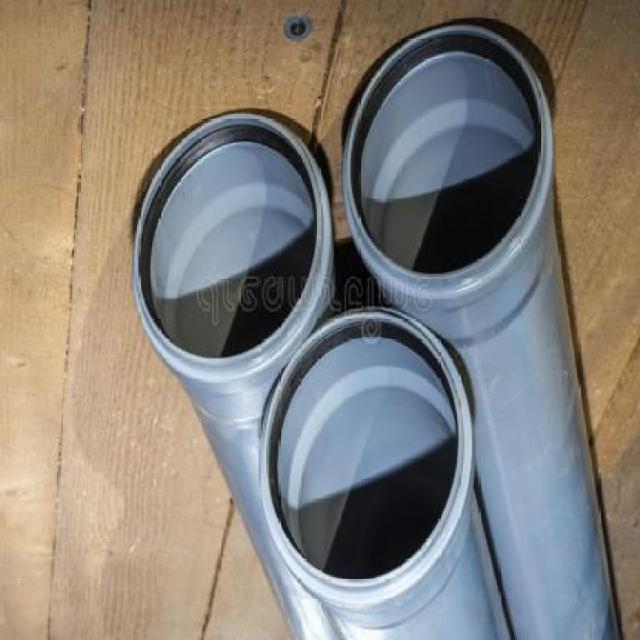pipe: (260, 308, 473, 602), (343, 22, 554, 296), (133, 111, 333, 372)
